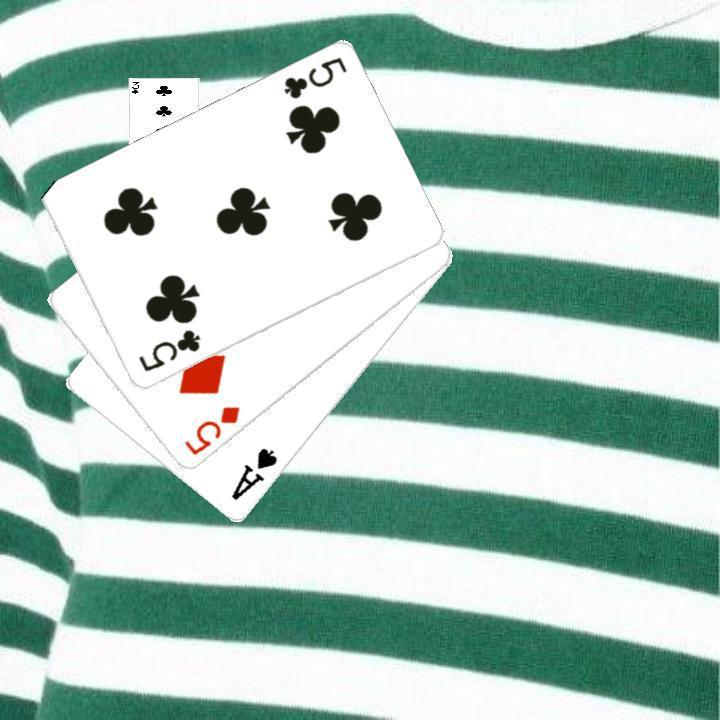5: (179, 402, 242, 458), (279, 53, 349, 102), (134, 325, 202, 375)
A: (227, 444, 280, 503)
